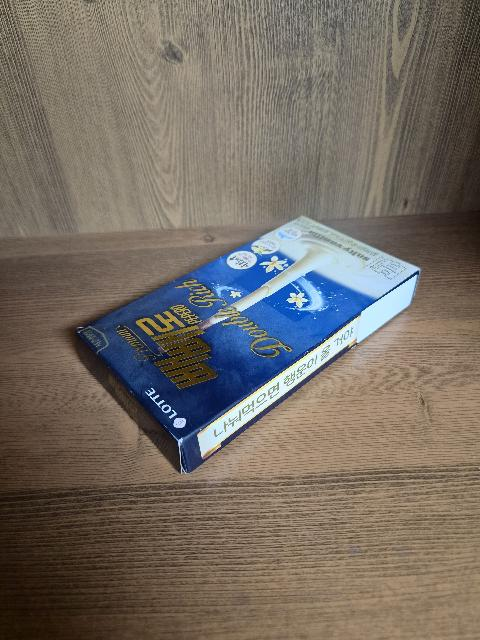pepero: (73, 215, 420, 474)
